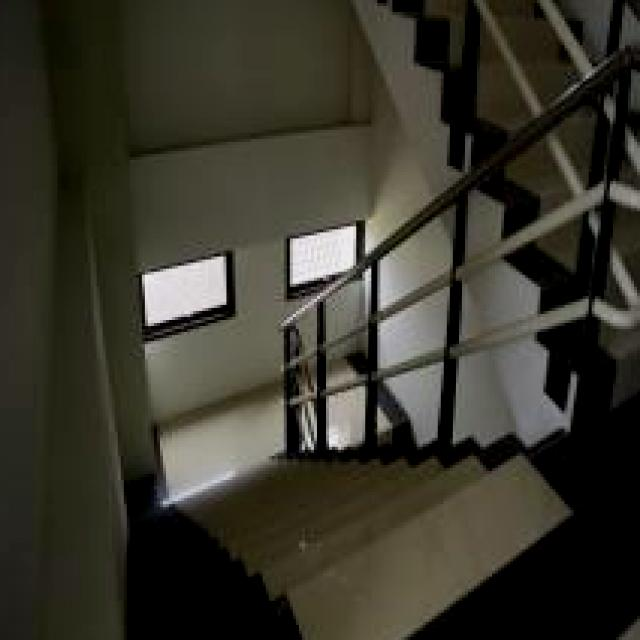downstair: (219, 478, 418, 640)
